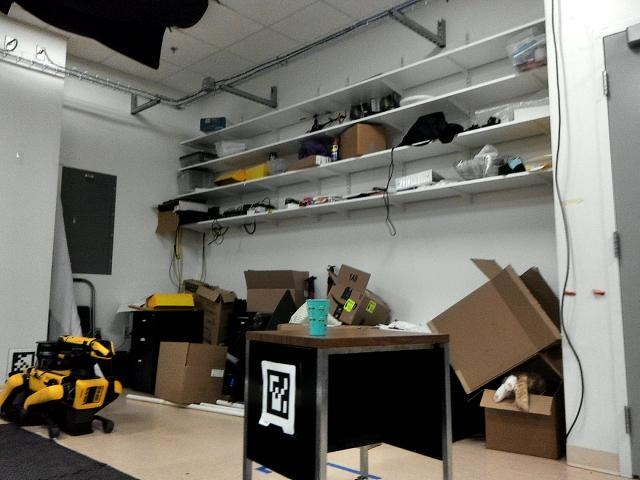coffee_cup: (305, 298, 330, 335)
